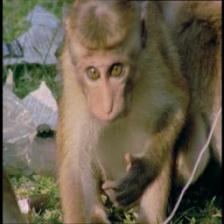monkey: (55, 0, 159, 142)
